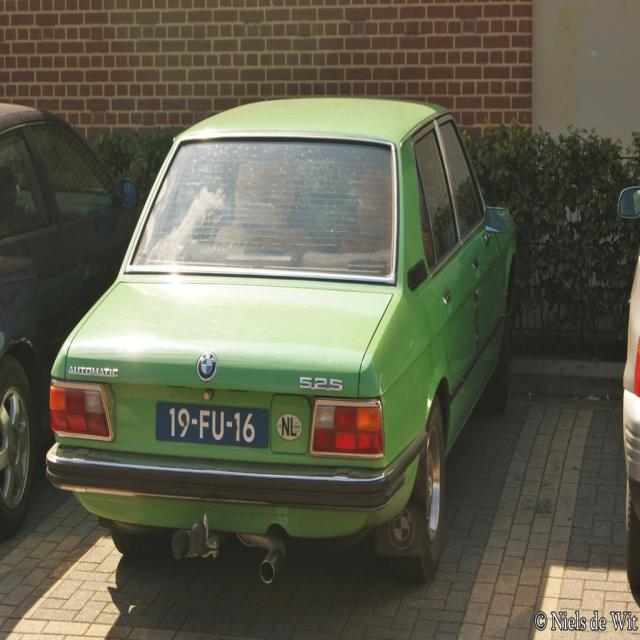car: (44, 93, 517, 583)
